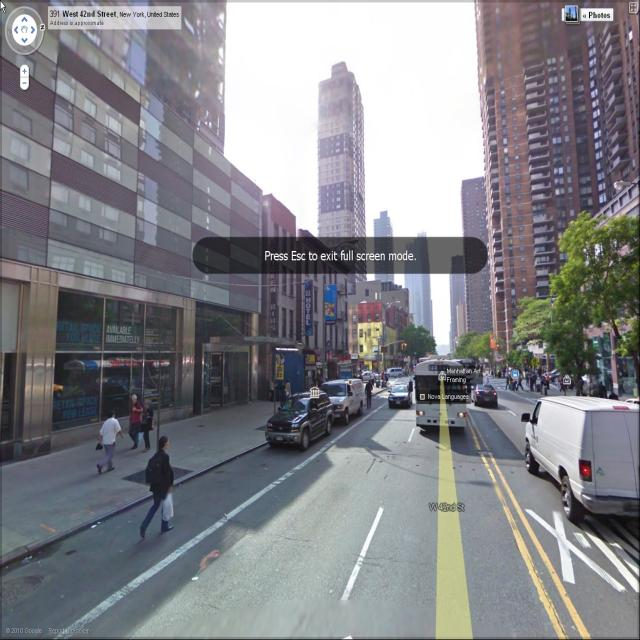b_1: (1, 1, 259, 360), (477, 9, 612, 242), (312, 62, 373, 288), (461, 175, 505, 369), (256, 203, 294, 354), (437, 248, 472, 358), (401, 228, 432, 344), (301, 239, 331, 344), (365, 203, 395, 284)
b_2: (516, 199, 634, 410)
